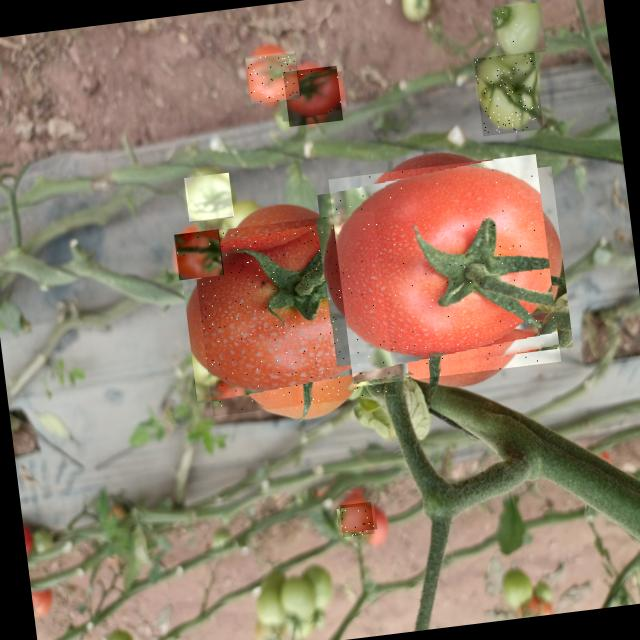Ripe Tomato: (328, 154, 561, 386), (190, 210, 396, 416), (282, 65, 342, 126), (246, 50, 300, 104), (174, 229, 224, 280), (338, 501, 374, 536)
Unripe Tomato: (474, 51, 544, 136), (490, 2, 546, 58), (184, 172, 234, 221)
